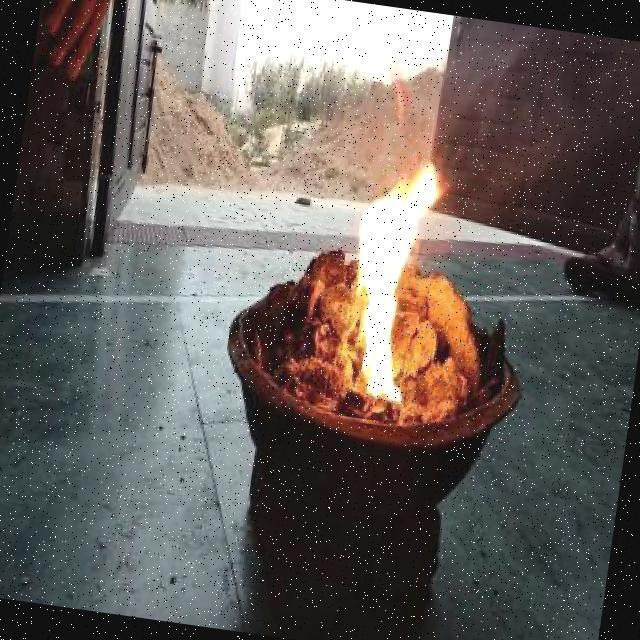Fire: (335, 146, 456, 415)
Smoke: (400, 16, 592, 194)
